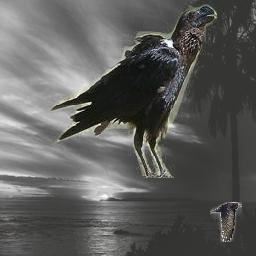Crow: (51, 4, 218, 178), (210, 202, 242, 242)
